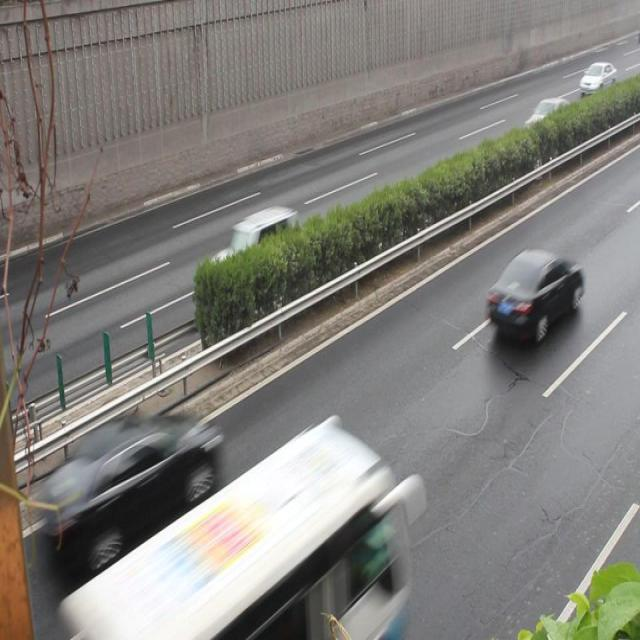car: (58, 417, 216, 558), (485, 247, 581, 341), (207, 208, 302, 298), (519, 99, 573, 148)
van: (91, 415, 400, 640)
